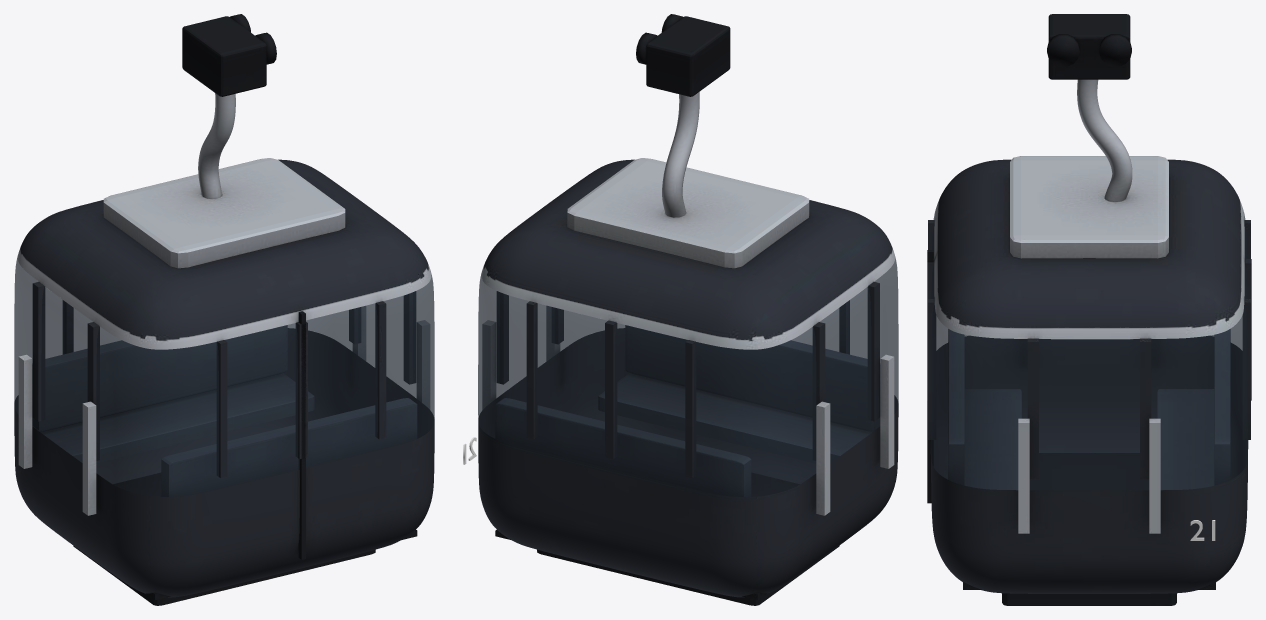
Rendered from gondola10.glb.
3 renders of one model, left to right at view 1: azimuth 30°, elevation 25°; view 2: azimuth 150°, elevation 25°; view 3: azimuth 270°, elevation 25°, orthographic. The views are drawn at different scales.
Visible parts, largest first — view 1: gondola10, gondola10_glass; view 2: gondola10, gondola10_glass; view 3: gondola10, gondola10_glass.
Part boxes in pixels (x1,y1,x2,y2): gondola10: [14, 14, 434, 605]; gondola10_glass: [14, 257, 434, 496]; gondola10: [478, 14, 898, 605]; gondola10_glass: [478, 257, 898, 496]; gondola10: [927, 14, 1251, 605]; gondola10_glass: [931, 210, 1247, 490].
Size of the model in its own units: 2.48 by 3.58 by 1.99.
3 materials, 1 textured.
